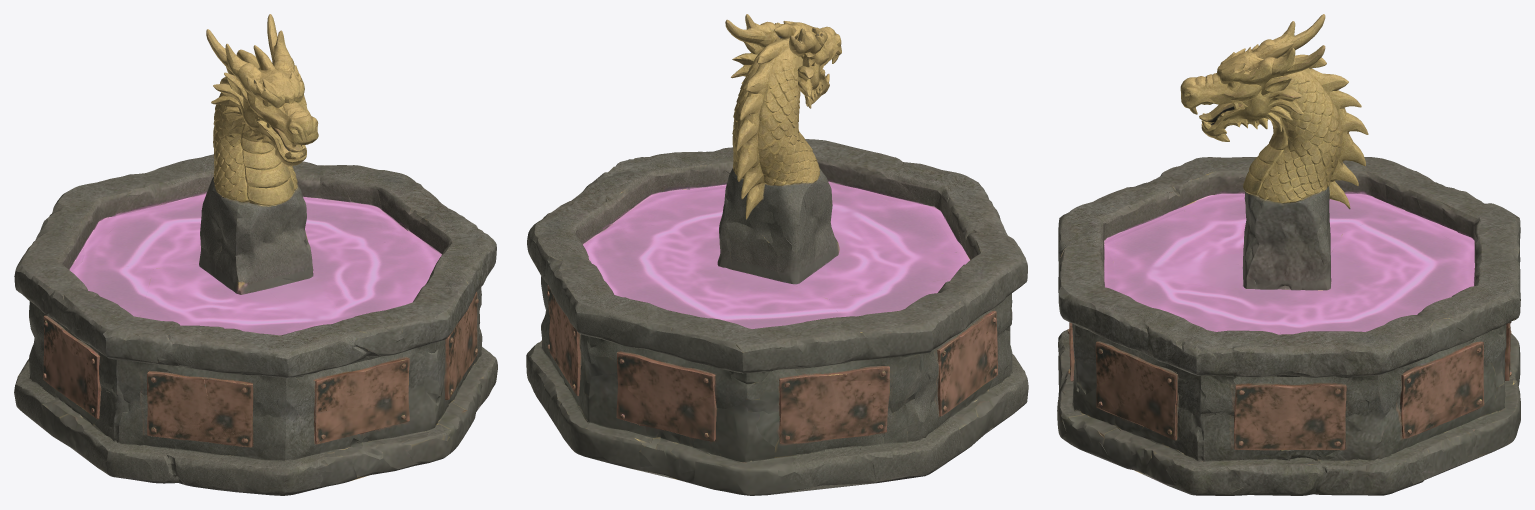
The model's file is fountain_dragon.glb.
3 views of the same model, side by side, from view 1: azimuth 30°, elevation 25°; view 2: azimuth 150°, elevation 25°; view 3: azimuth 270°, elevation 25° (orthographic). The views are drawn at different scales.
Visible parts, largest first — view 1: fountain_dragon; view 2: fountain_dragon; view 3: fountain_dragon.
Part boxes in pixels (x1,y1,x2,y2): fountain_dragon: (14, 14, 497, 495); fountain_dragon: (526, 14, 1028, 495); fountain_dragon: (1057, 14, 1520, 495).
Bounding box in the file's own units: 4.76 × 4.2 × 4.77.
Materials: 1 (1 with a texture image).
